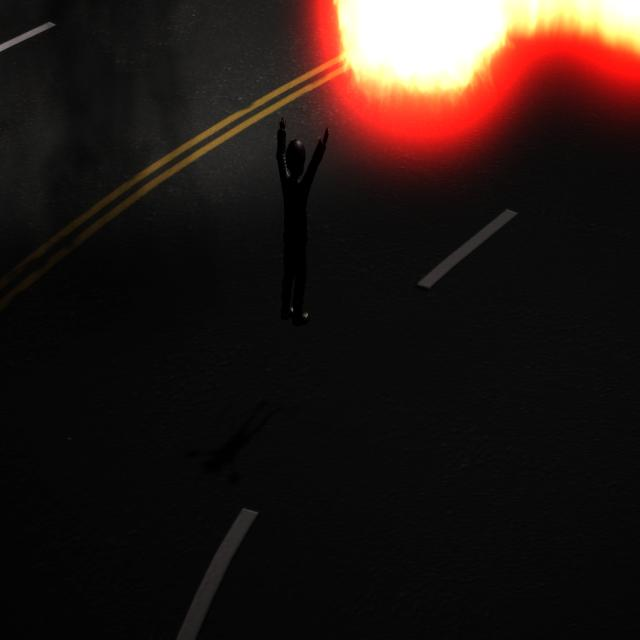Human: (275, 114, 331, 331)
